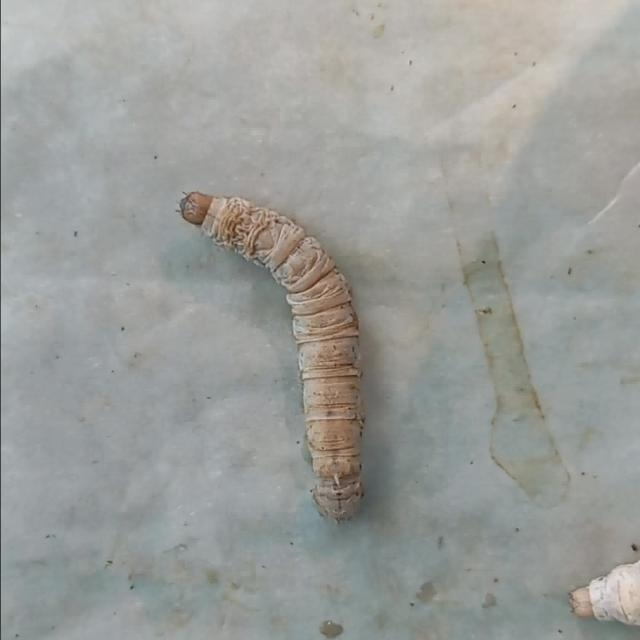Grasserie: (163, 174, 414, 538)
